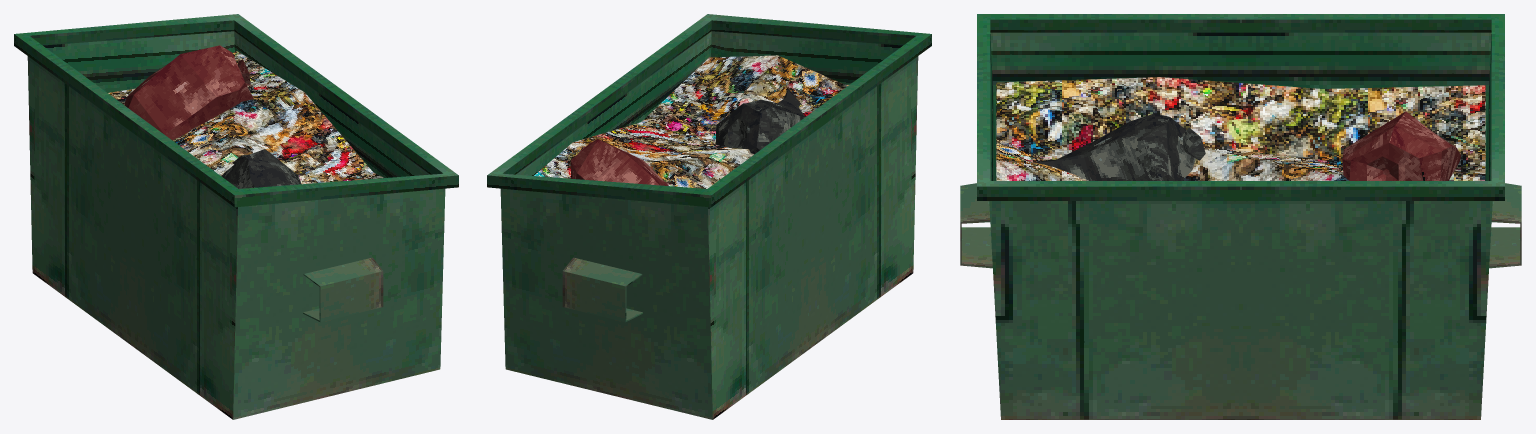
File: dumpster_diagonal_full_no_lid.glb
The picture shows the model from 3 angles, left to right: view 1: azimuth 30°, elevation 25°; view 2: azimuth 150°, elevation 25°; view 3: azimuth 270°, elevation 25°; orthographic projection. The views are drawn at different scales.
Parts seen in each view (by area): view 1: dumpster_diagonal_full_no_lid; view 2: dumpster_diagonal_full_no_lid; view 3: dumpster_diagonal_full_no_lid.
Boxes of the visible parts, x1=… form: dumpster_diagonal_full_no_lid: x1=14, y1=14, x2=458, y2=419; dumpster_diagonal_full_no_lid: x1=487, y1=14, x2=931, y2=419; dumpster_diagonal_full_no_lid: x1=960, y1=14, x2=1521, y2=419.
Size of the model in its own units: 2.03 by 2.02 by 3.67.
3 materials, 3 textured.
